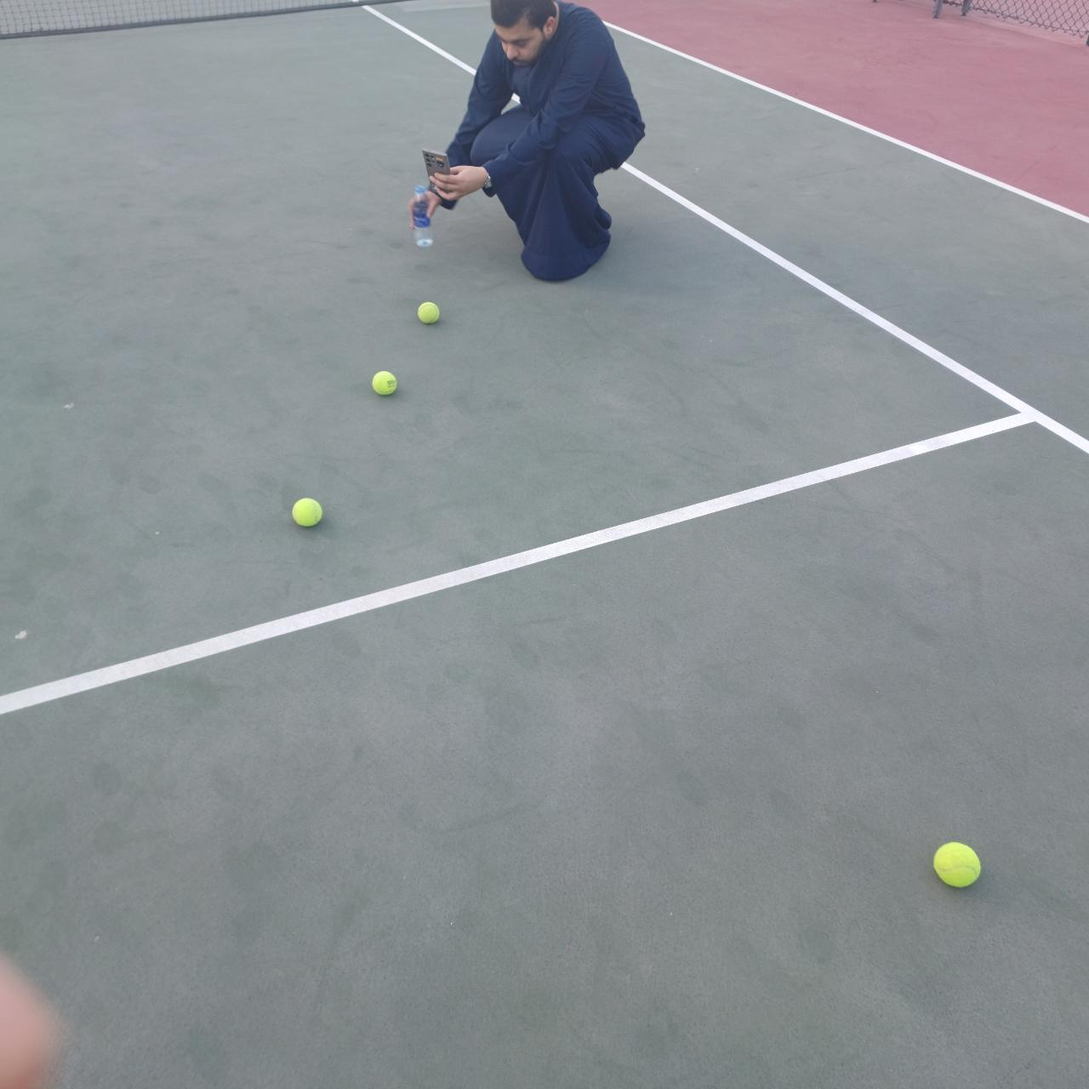tennis-ball: (931, 839, 981, 888), (290, 494, 323, 527), (369, 368, 397, 396), (415, 299, 440, 324)
